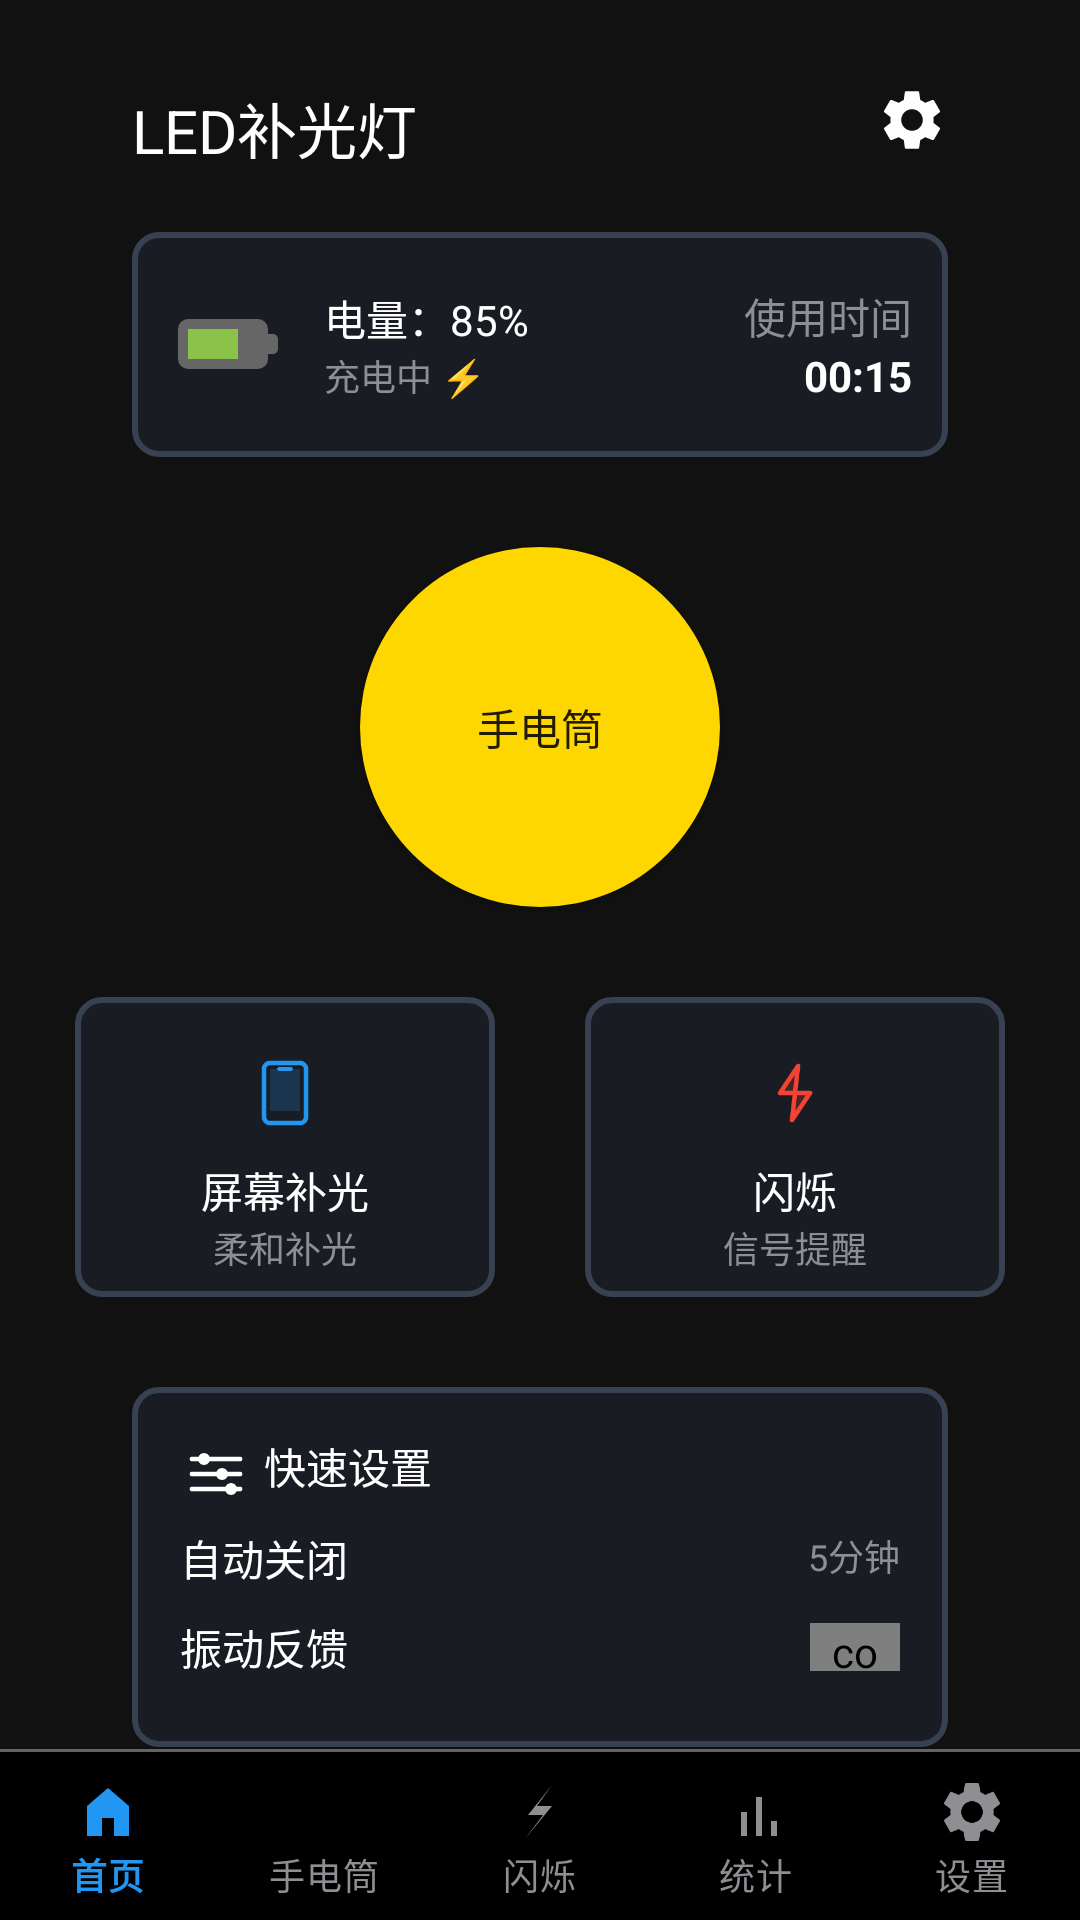

Icon bounding boxes for this 1080x1920 phone screenshot, format (x1, y1, x2, y2):
battery: (178, 319, 278, 369)
lightning: (777, 1063, 813, 1123)
phone: (261, 1060, 309, 1126)
